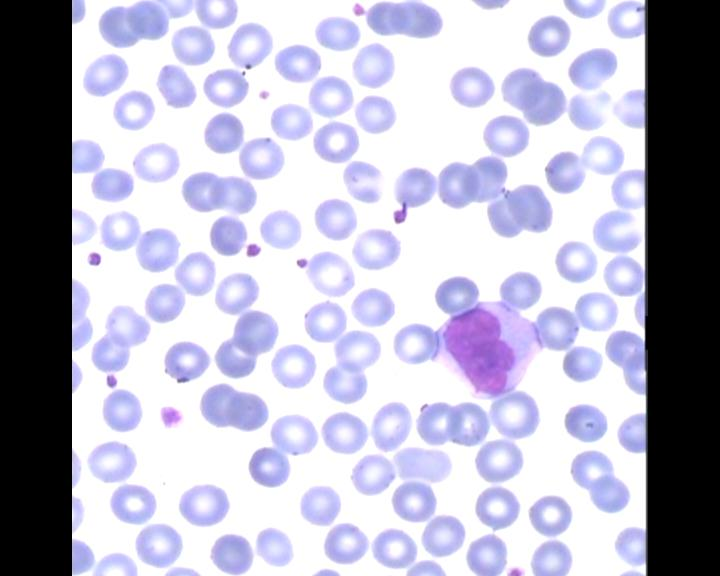mono: (430, 299, 543, 400)
